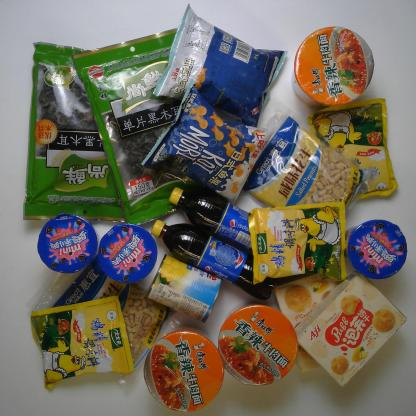Canned Food: (146, 254, 223, 324)
Dessert: (298, 273, 408, 388), (272, 273, 347, 335), (96, 222, 159, 284), (35, 212, 98, 274), (347, 219, 408, 280)
Dried Food: (71, 27, 198, 223), (21, 41, 135, 226)
Dried Fruit: (30, 250, 188, 390), (242, 106, 380, 218)
Drink: (150, 217, 276, 300), (167, 186, 264, 254)
Instant Noodles: (292, 25, 376, 107), (143, 328, 225, 412), (219, 304, 298, 388)
Puffed Food: (152, 2, 288, 129), (142, 79, 274, 207)
Seasoner: (31, 295, 136, 391), (305, 96, 395, 200), (246, 201, 351, 284)
